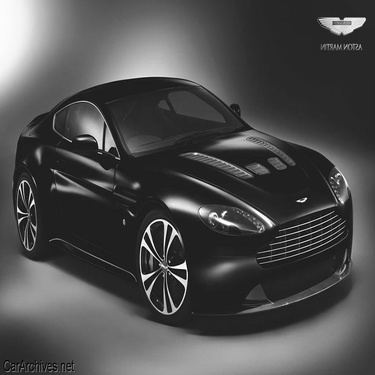car: (4, 68, 357, 332)
